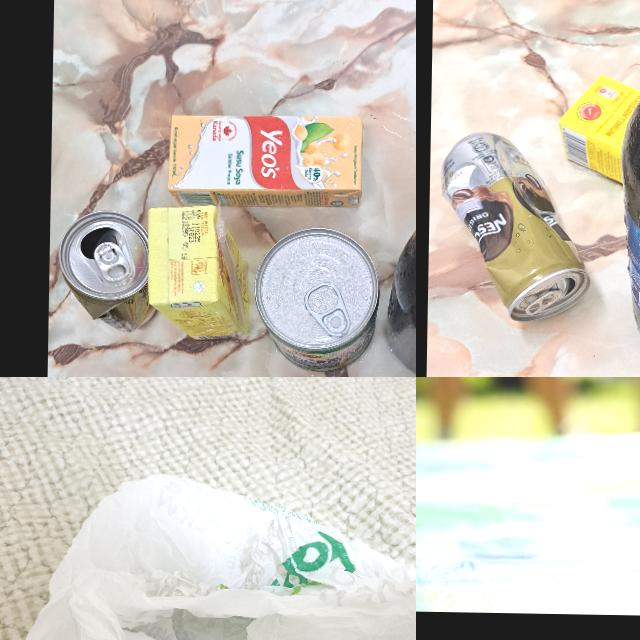aba de lata: (304, 280, 352, 338), (92, 238, 132, 282)
caixinha: (168, 112, 366, 206), (148, 203, 250, 340), (558, 72, 640, 183)
garrafa de vidro: (383, 157, 416, 377)
lata: (441, 130, 592, 322), (254, 225, 379, 372), (57, 211, 156, 327)
sacola plástica: (18, 467, 416, 640)
